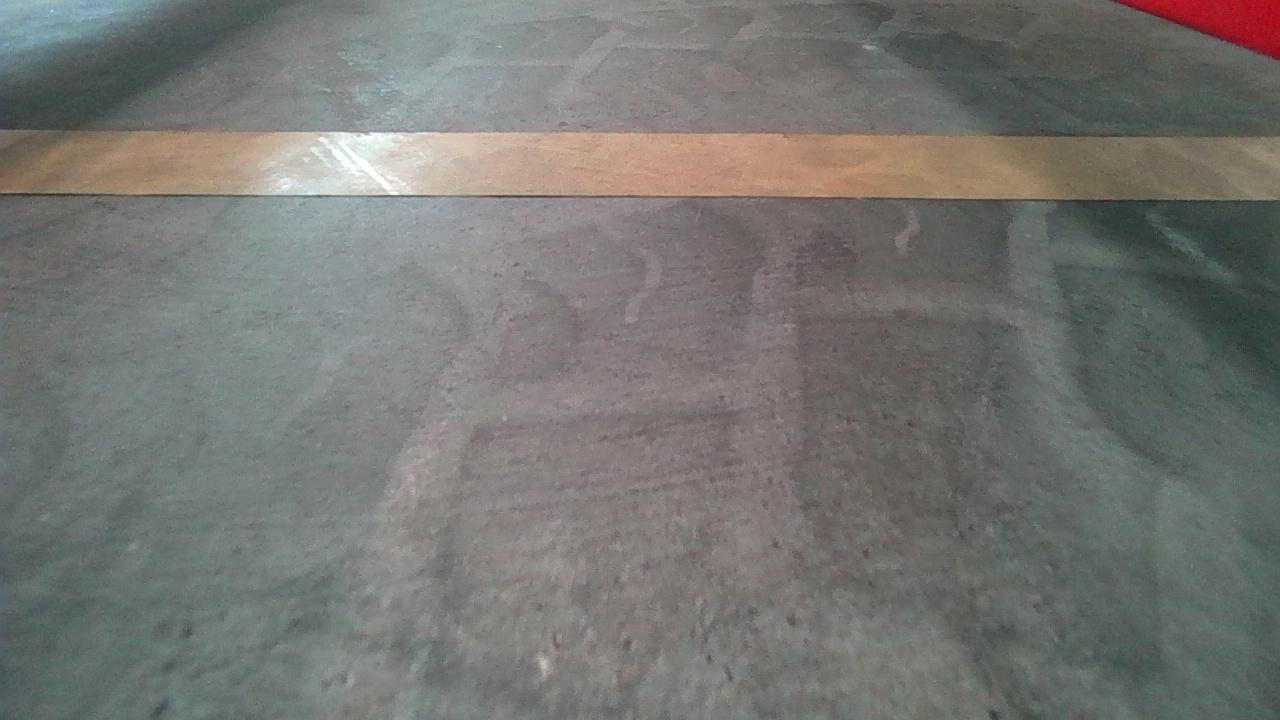yellow_line: (2, 119, 1269, 205)
